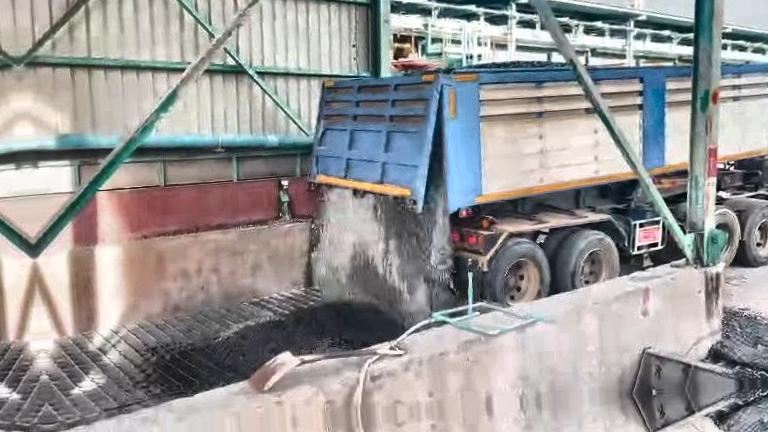gravel: (311, 165, 455, 325), (708, 309, 768, 382)
